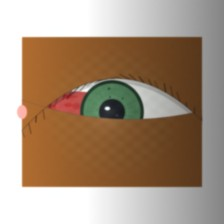hemorrhage_spot: (29, 67, 122, 141)
